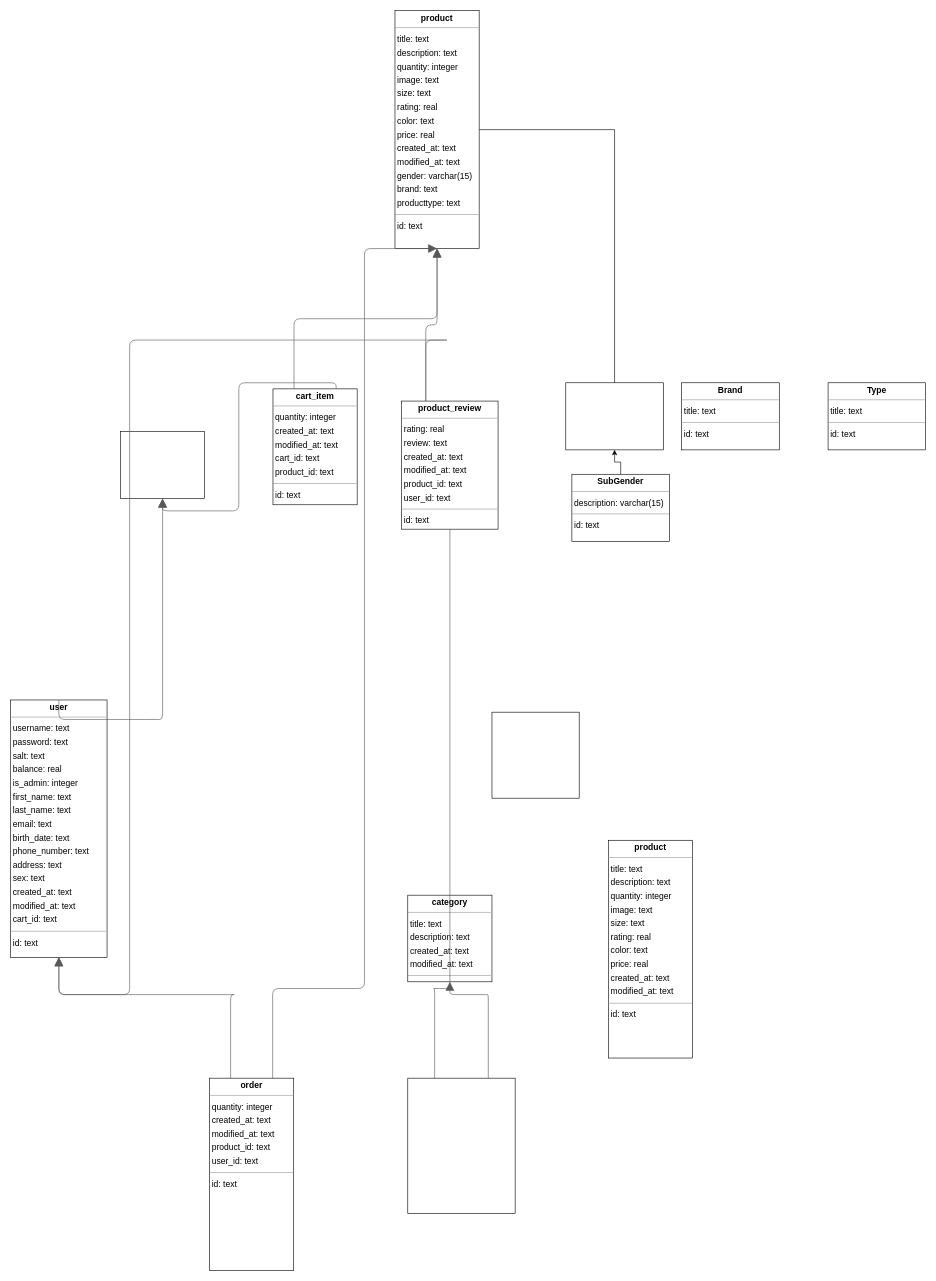
The diagram is 936 pixels wide and 1281 high, and some of its shapes have lost their labels. Here are the shapes that lost their labels. From the top down, the centre of each, then its label:
(x=614, y=416): Gender description: varchar(15) id: text
(x=162, y=465): cart modified_at: text id: text
(x=535, y=755): sqlite_master type: text name: text tbl_name: text rootpage: int sql: text
(x=461, y=1146): product_category category_id: text product_id: text id: text
